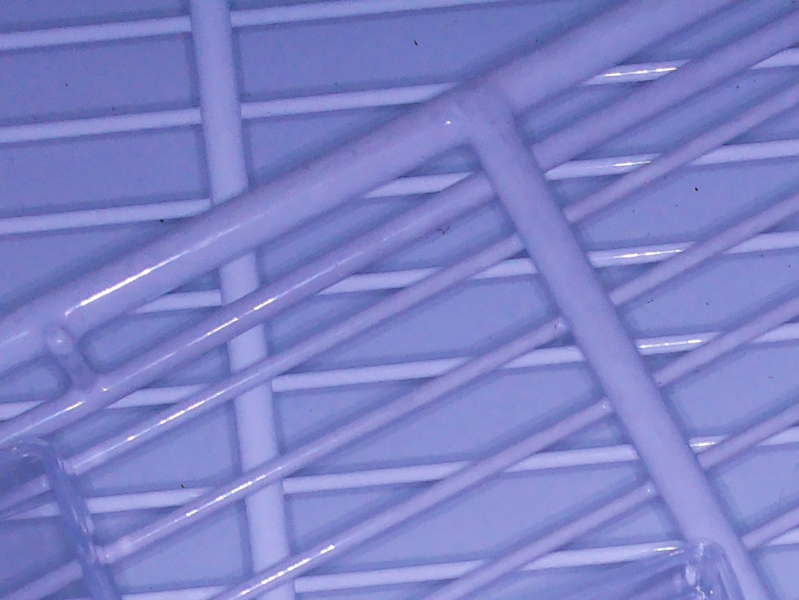plate: (1, 438, 125, 600)
